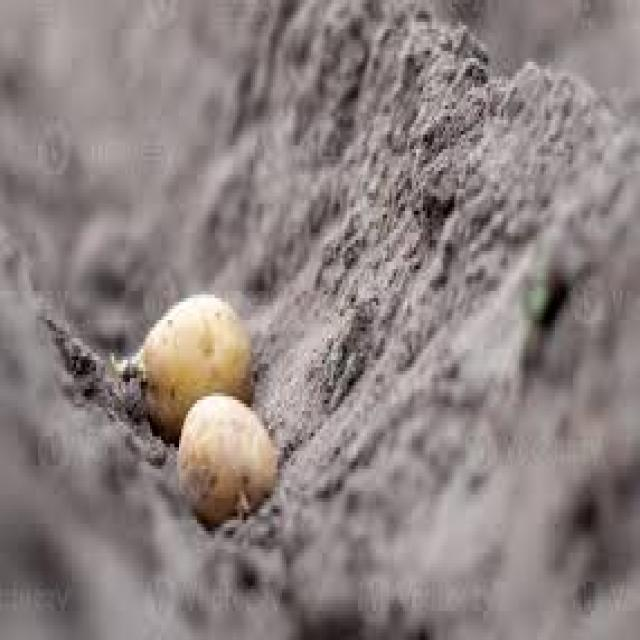Potato: (136, 283, 250, 432)
